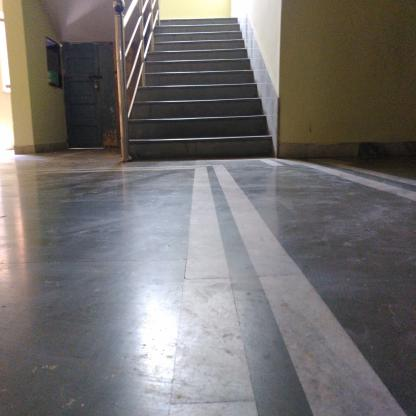stairs: (163, 16, 237, 165)
